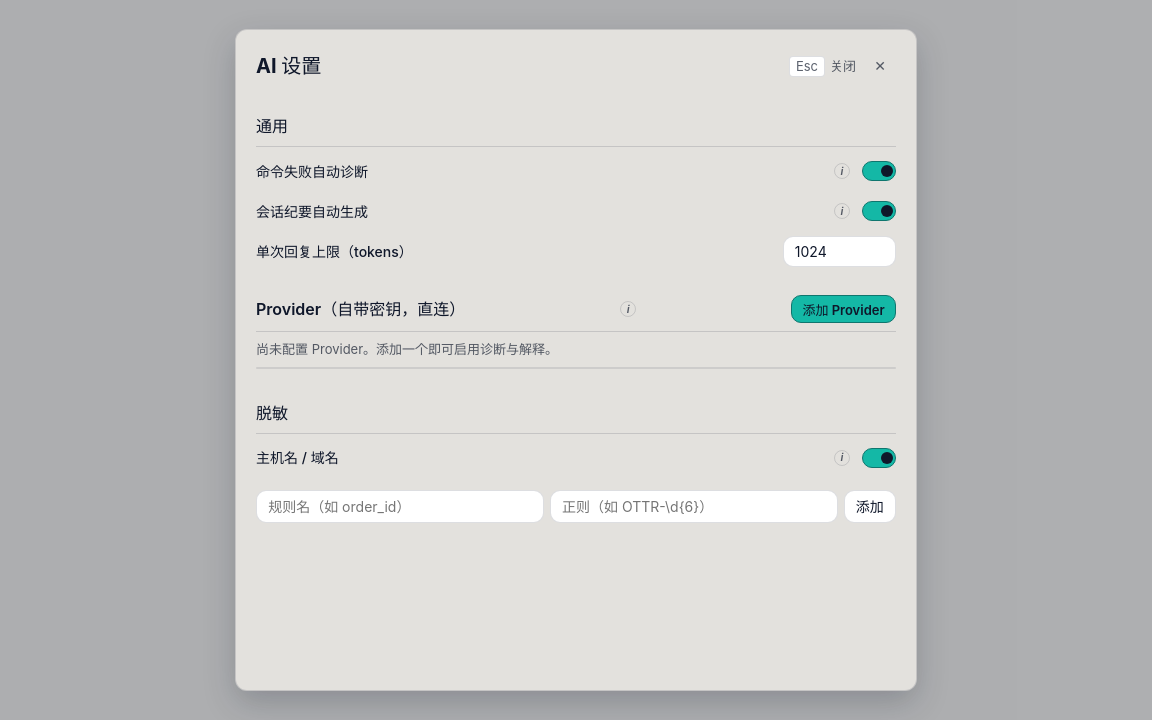
provider 列表与 CRUD › 既有 preset 不受默认模型面影响（ollama 只填 baseURL）
This screenshot has width=1152, height=720.
Step 1. Click the button with test id "ai-add-provider" → (844, 309), box [791,295,896,323]
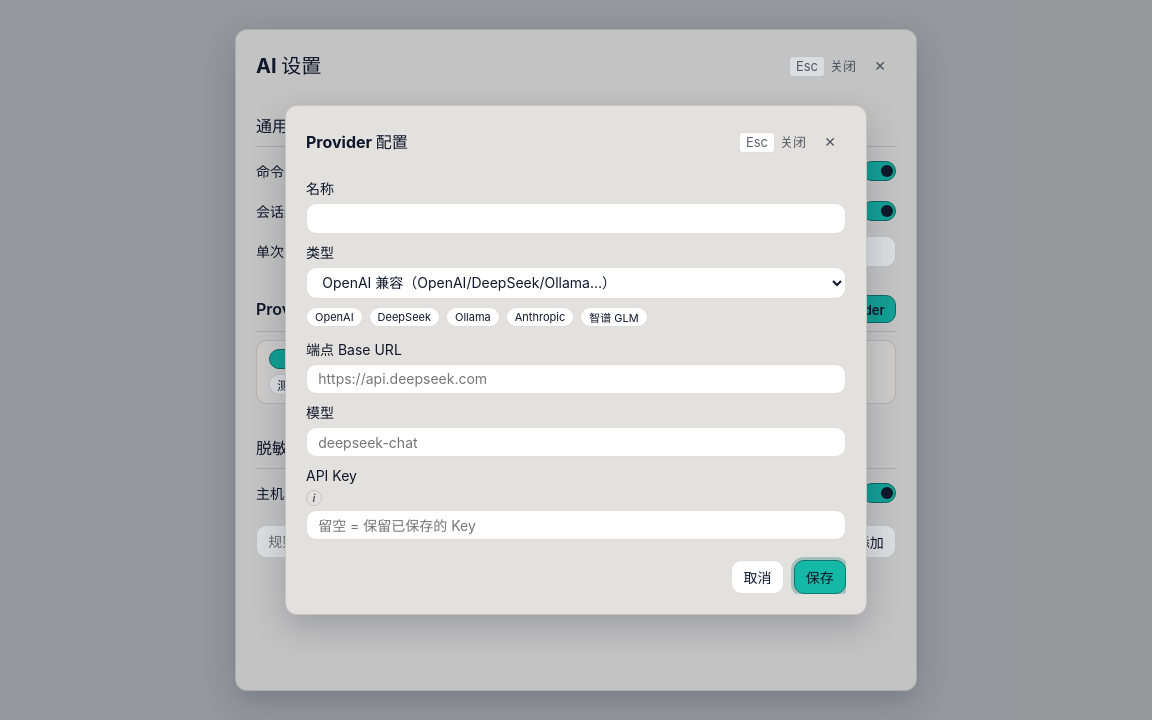
Step 2. Click the button with test id "ai-preset-ollama" → (473, 317), box [446,307,500,327]
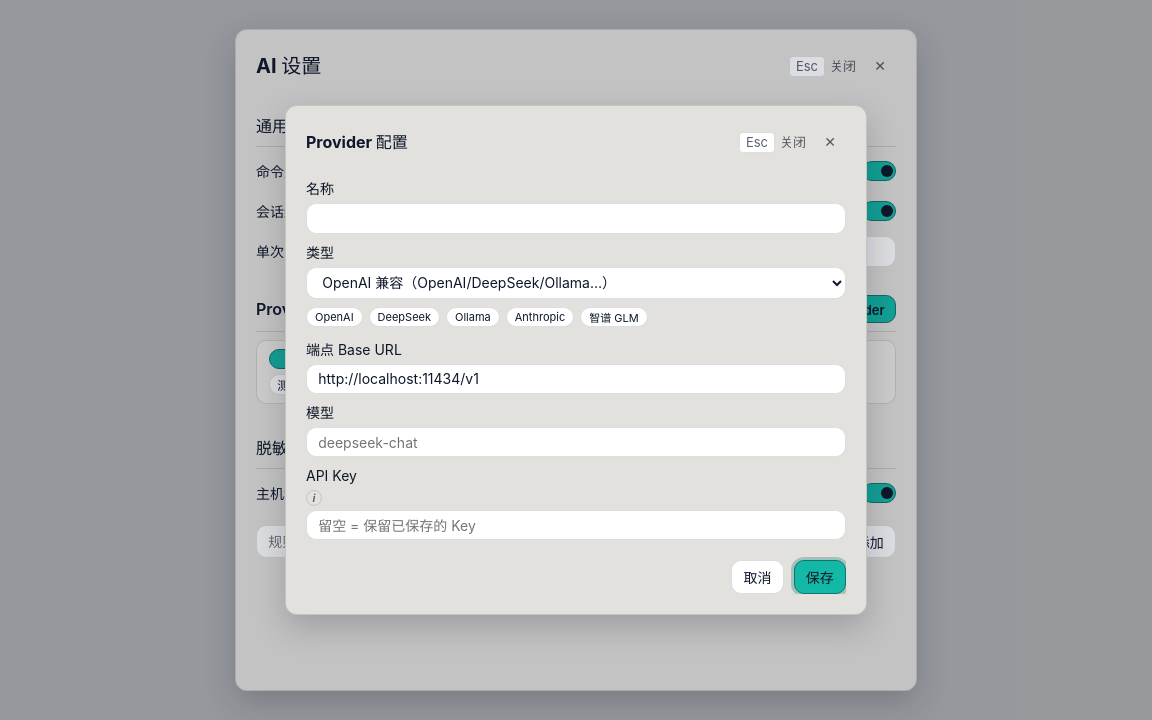
Now the field with test id "ai-field-model" is empty, box [306,427,846,457]
Now the field with test id "ai-field-baseurl" holds "http://localhost:11434/v1", box [306,364,846,394]
